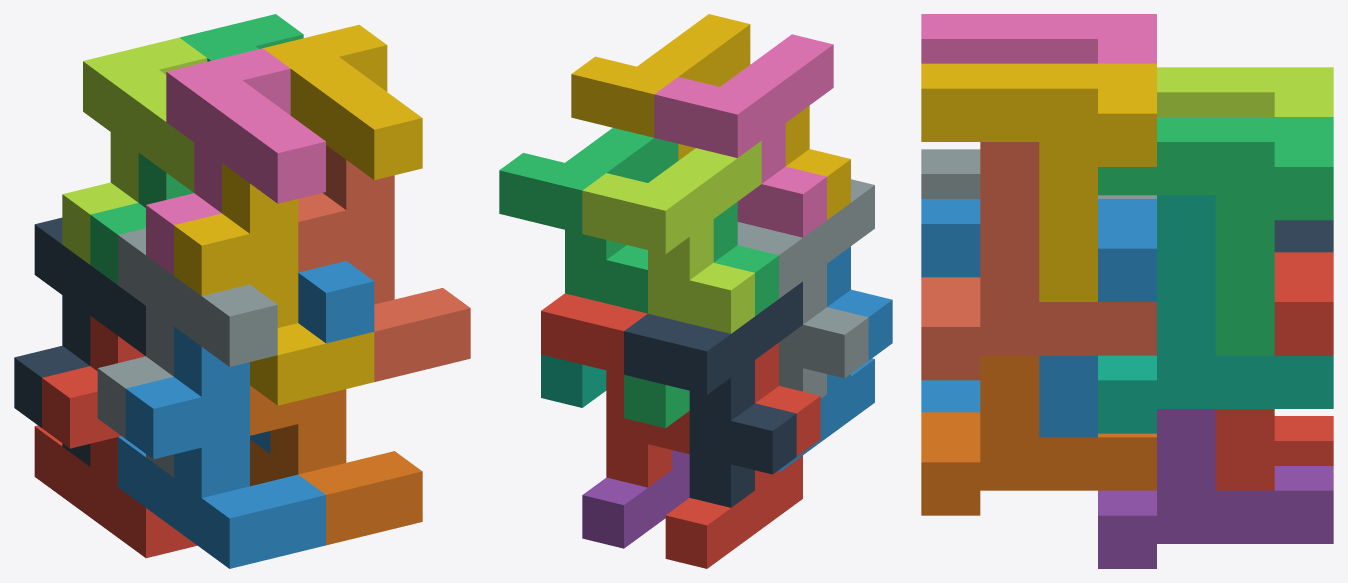
The model's file is tiling.obj.
3 views of the same model, side by side, from view 1: azimuth 30°, elevation 25°; view 2: azimuth 150°, elevation 25°; view 3: azimuth 270°, elevation 25° (orthographic). The views are drawn at different scales.
Visible parts, largest first — view 1: copy_1_domain_2, copy_2_domain_4, copy_1_domain_4, copy_1_domain_8, copy_1_domain_6, copy_2_domain_8, copy_2_domain_2, copy_2_domain_3, copy_1_domain_1, copy_2_domain_1, copy_2_domain_6, copy_1_domain_3 (+1 smaller); view 2: copy_2_domain_1, copy_2_domain_3, copy_2_domain_4, copy_2_domain_7, copy_2_domain_2, copy_2_domain_5, copy_2_domain_8, copy_1_domain_1, copy_1_domain_2, copy_1_domain_5, copy_1_domain_3, copy_1_domain_4 (+1 smaller); view 3: copy_2_domain_8, copy_2_domain_7, copy_1_domain_8, copy_1_domain_7, copy_1_domain_6, copy_1_domain_5, copy_2_domain_6, copy_2_domain_4, copy_2_domain_5, copy_2_domain_3, copy_2_domain_2, copy_1_domain_1 (+2 smaller).
Boxes of the visible parts, <box> form: copy_1_domain_2: <box>118,326,325,568</box>; copy_2_domain_4: <box>146,48,325,275</box>; copy_1_domain_4: <box>174,163,374,405</box>; copy_1_domain_8: <box>298,145,470,381</box>; copy_1_domain_6: <box>250,385,422,545</box>; copy_2_domain_8: <box>263,24,422,179</box>; copy_2_domain_2: <box>97,228,277,477</box>; copy_2_domain_3: <box>62,37,207,264</box>; copy_1_domain_1: <box>34,316,197,558</box>; copy_2_domain_1: <box>14,217,145,466</box>; copy_2_domain_6: <box>250,261,374,453</box>; copy_1_domain_3: <box>90,153,193,284</box>; copy_2_domain_1: <box>624,281,802,507</box>; copy_2_domain_3: <box>582,141,761,333</box>; copy_2_domain_4: <box>654,34,833,237</box>; copy_2_domain_7: <box>499,128,678,313</box>; copy_2_domain_2: <box>737,179,874,398</box>; copy_2_domain_5: <box>541,293,689,487</box>; copy_2_domain_8: <box>571,14,750,160</box>; copy_1_domain_1: <box>665,342,820,568</box>; copy_1_domain_2: <box>779,246,892,472</box>; copy_1_domain_5: <box>582,450,689,548</box>; copy_1_domain_3: <box>624,202,778,428</box>; copy_1_domain_4: <box>785,105,850,219</box>; copy_2_domain_8: <box>921,63,1156,301</box>; copy_2_domain_7: <box>1098,117,1333,355</box>; copy_1_domain_8: <box>921,142,1156,380</box>; copy_1_domain_7: <box>1098,195,1333,433</box>; copy_1_domain_6: <box>921,355,1156,515</box>; copy_1_domain_5: <box>1098,409,1333,568</box>; copy_2_domain_6: <box>921,199,1156,437</box>; copy_2_domain_4: <box>921,14,1156,63</box>; copy_2_domain_5: <box>1215,252,1333,490</box>; copy_2_domain_3: <box>1157,67,1333,116</box>; copy_2_domain_2: <box>921,149,1156,198</box>; copy_1_domain_1: <box>1274,416,1333,465</box>.
Size of the model in its own units: 6 by 9 by 7.
